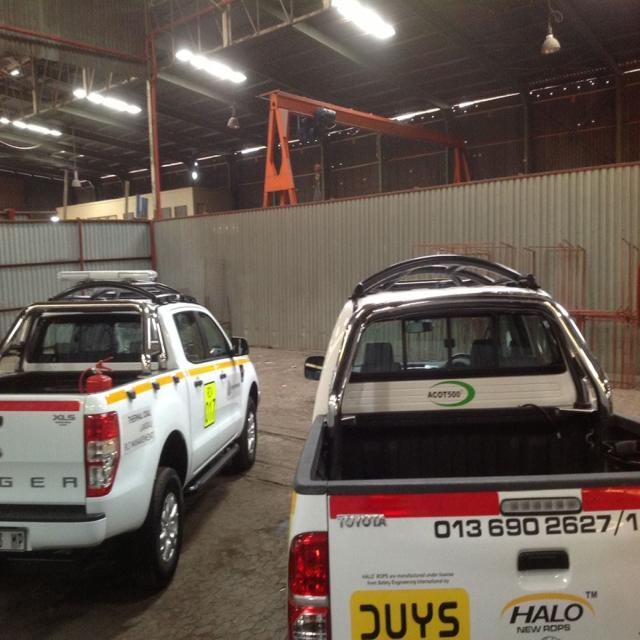light_vehicle: (284, 216, 640, 639), (2, 240, 261, 580)
